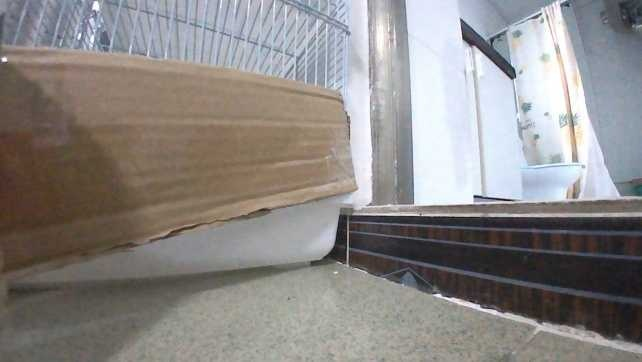door_sill: (340, 196, 641, 337)
toilet: (519, 163, 585, 197)
